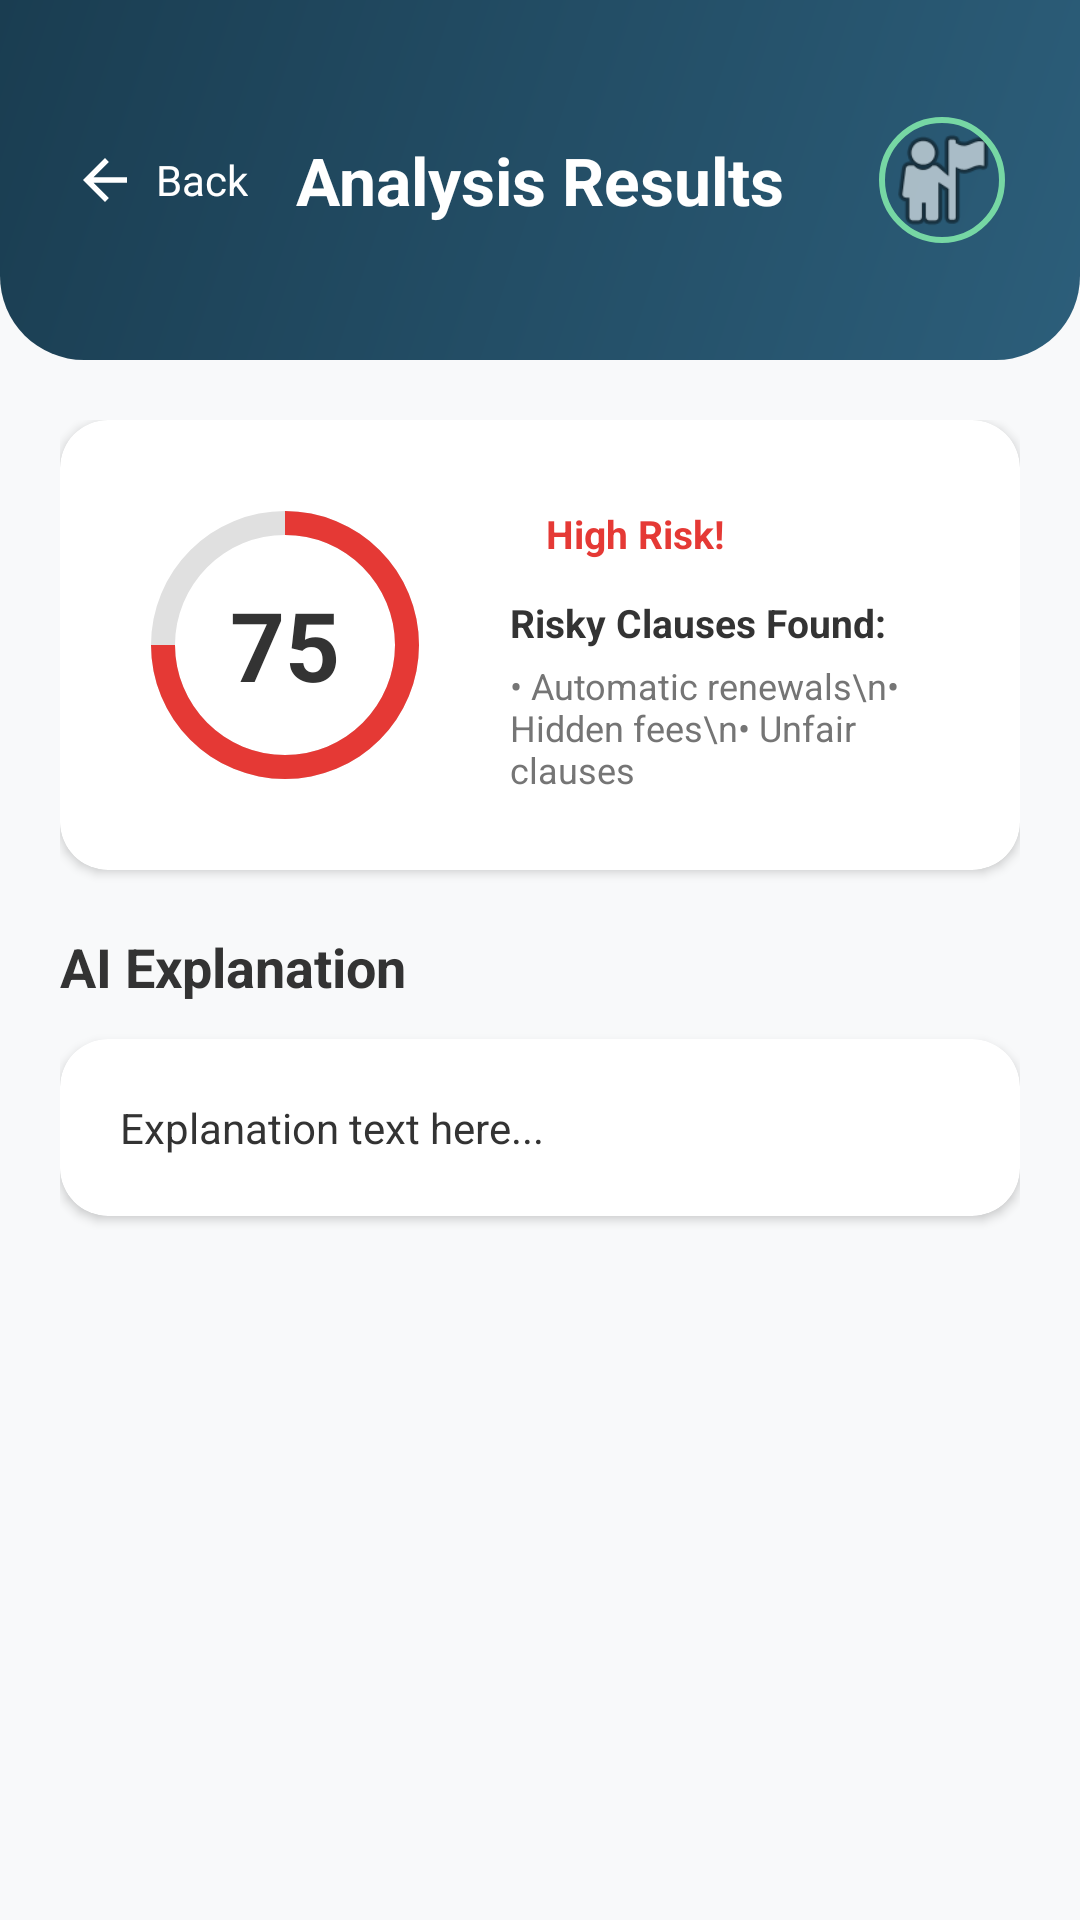

Where to tap for icons on this 1080px×1920px app screen, as (x,y):
myplaces: (942,180)
